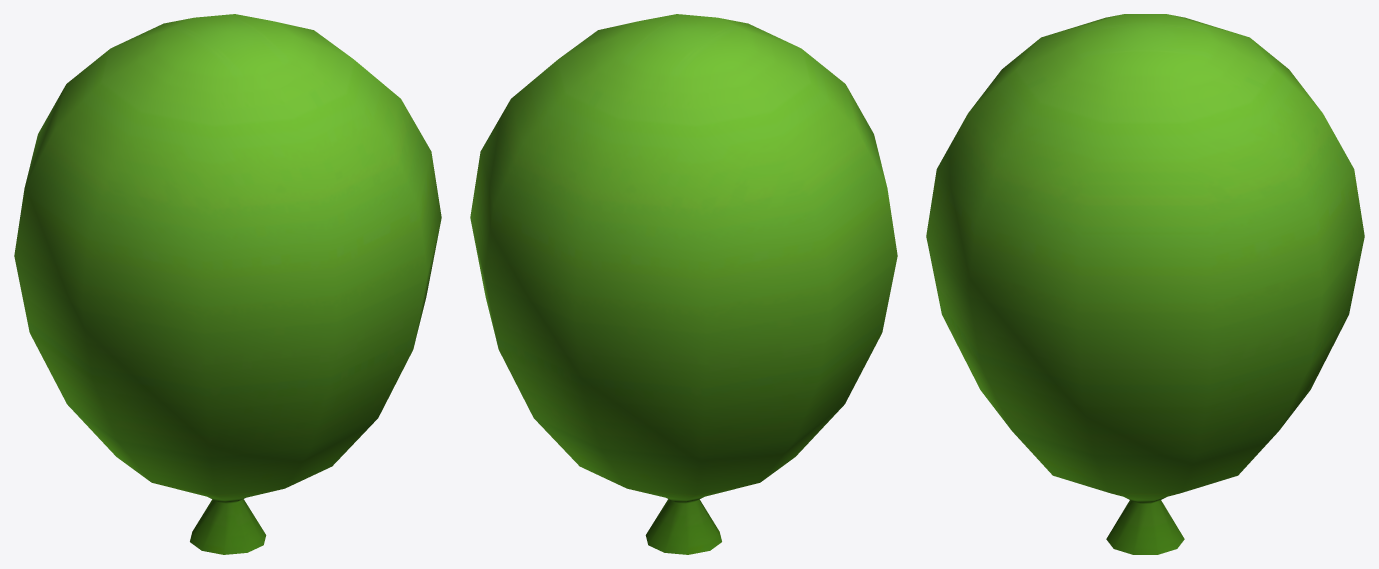
File: GreenBalloonHand.fbx
3 views of the same model, side by side, from view 1: azimuth 30°, elevation 25°; view 2: azimuth 150°, elevation 25°; view 3: azimuth 270°, elevation 25° (orthographic).
Parts seen in each view (by area): view 1: Balloon; view 2: Balloon; view 3: Balloon.
Boxes of the visible parts, bbox=[...] form: Balloon: bbox=[14, 14, 441, 554]; Balloon: bbox=[470, 14, 897, 554]; Balloon: bbox=[926, 14, 1364, 554].
Bounding box in the file's own units: 1.19 × 1.6 × 1.26.
